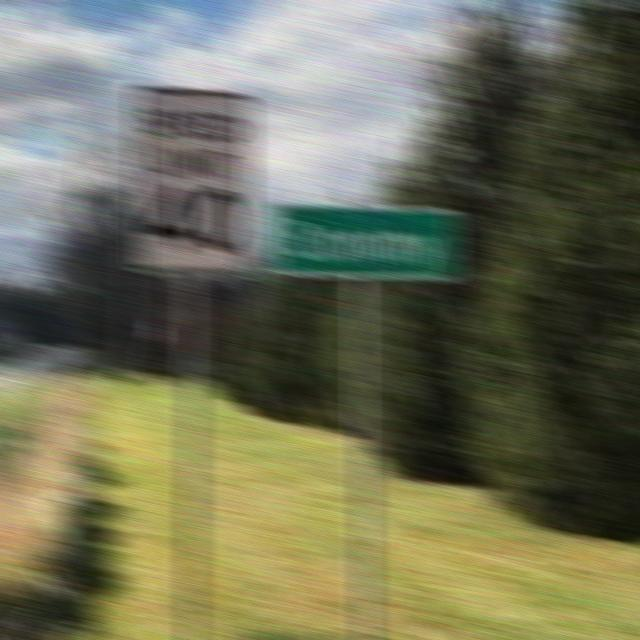speedLimit40: (130, 87, 256, 273)
